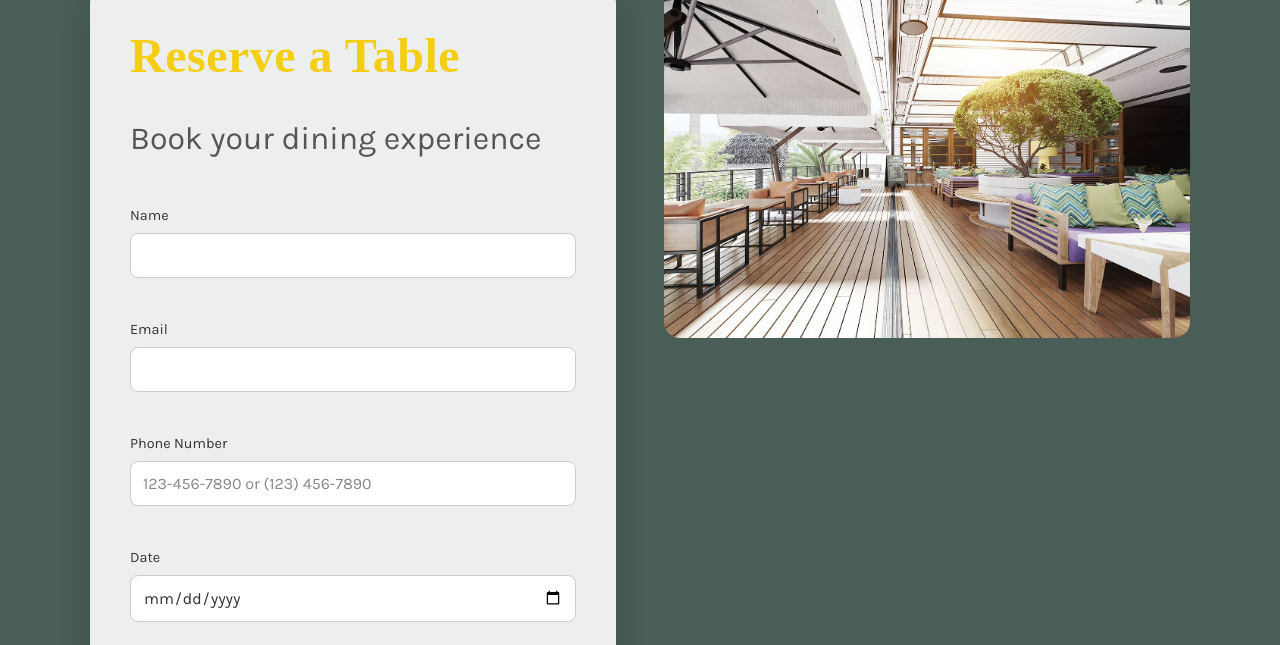
Test: BookingForm Component › submit button enables when form is valid
Type "Aimee" into the field labelled "Name" at [353, 255], box 130,233 -> 576,278
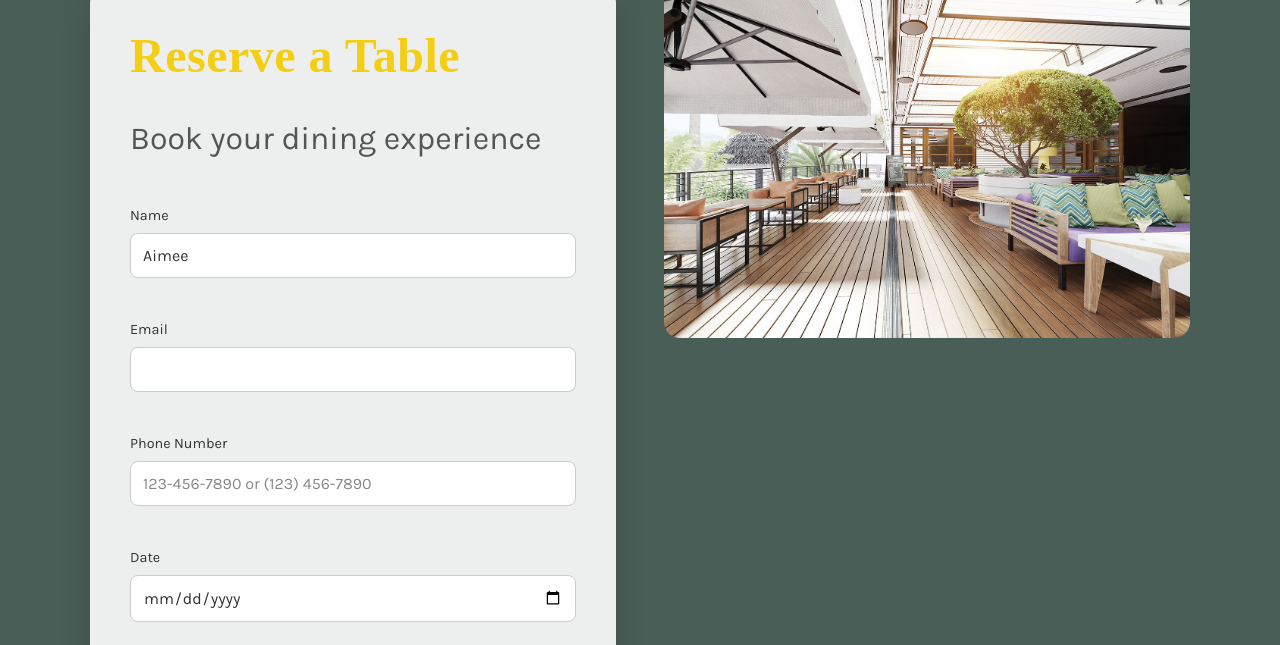
Type "a@b.com" into the field labelled "Email" at [353, 369], box 130,347 -> 576,392
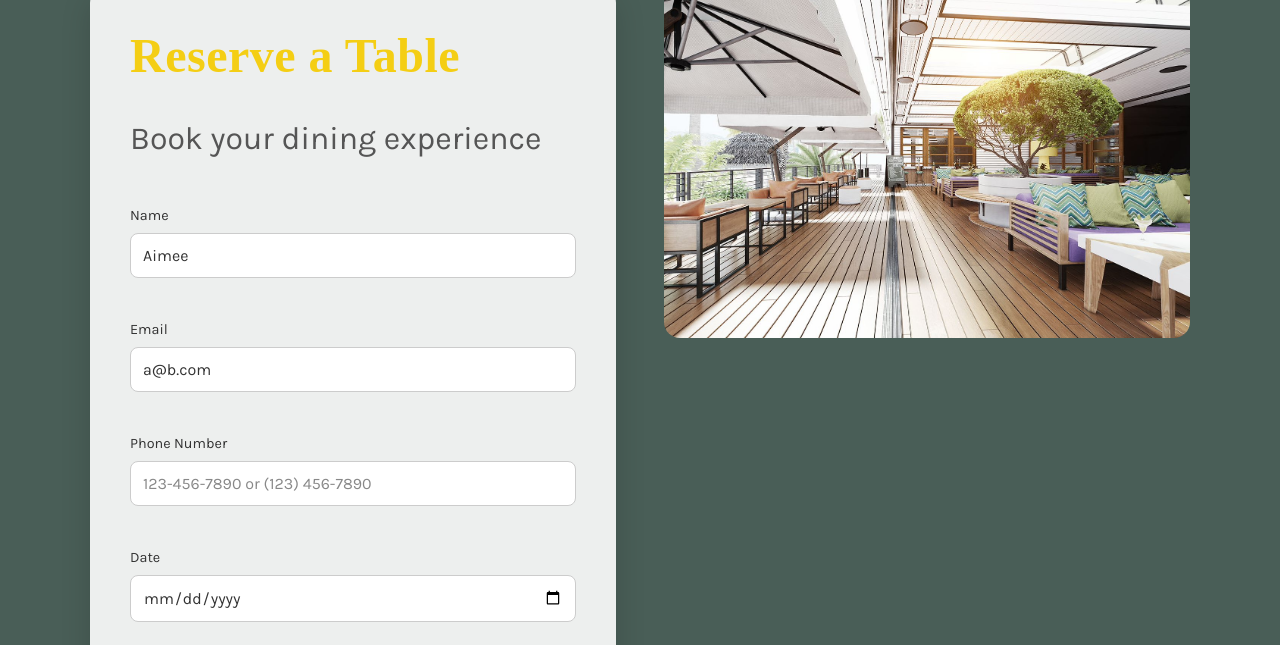
Type "2026-02-20" into the date field labelled "Date" at [353, 598], box 130,575 -> 576,622
(page scrolled)
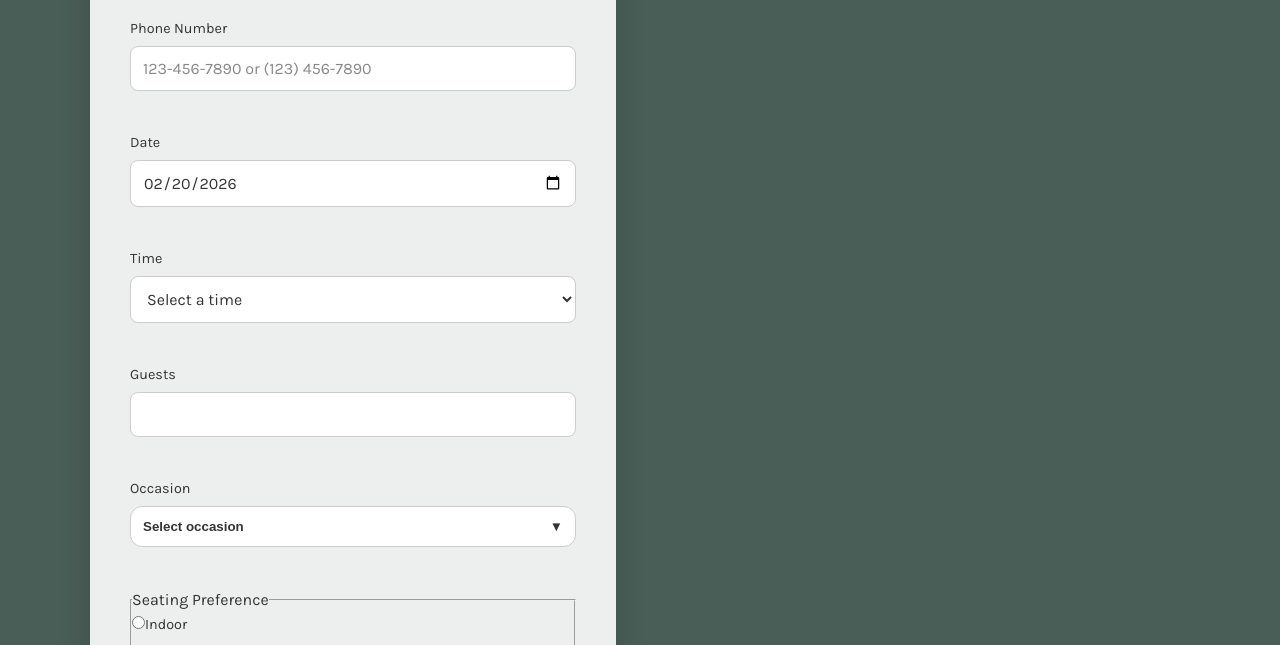
Select "17:00" in the dropdown labelled "Time" at [353, 300], box 130,276 -> 576,323
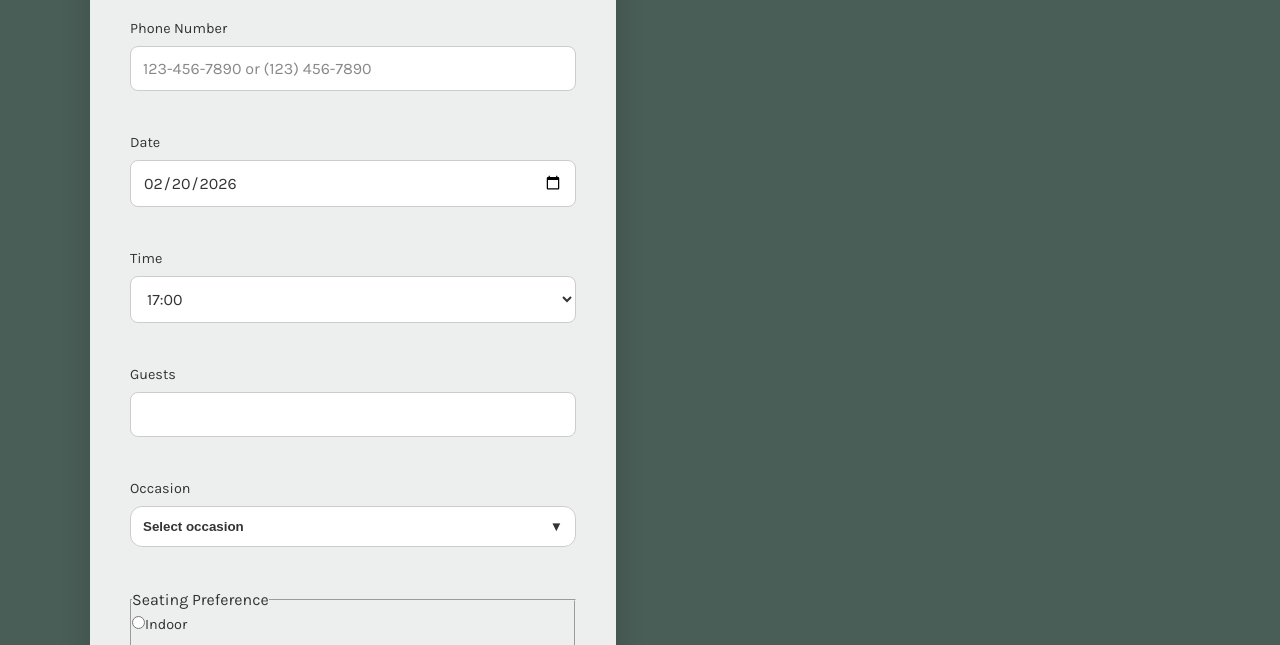
Type "2" into the number field labelled "Guests" at [353, 415], box 130,392 -> 576,437
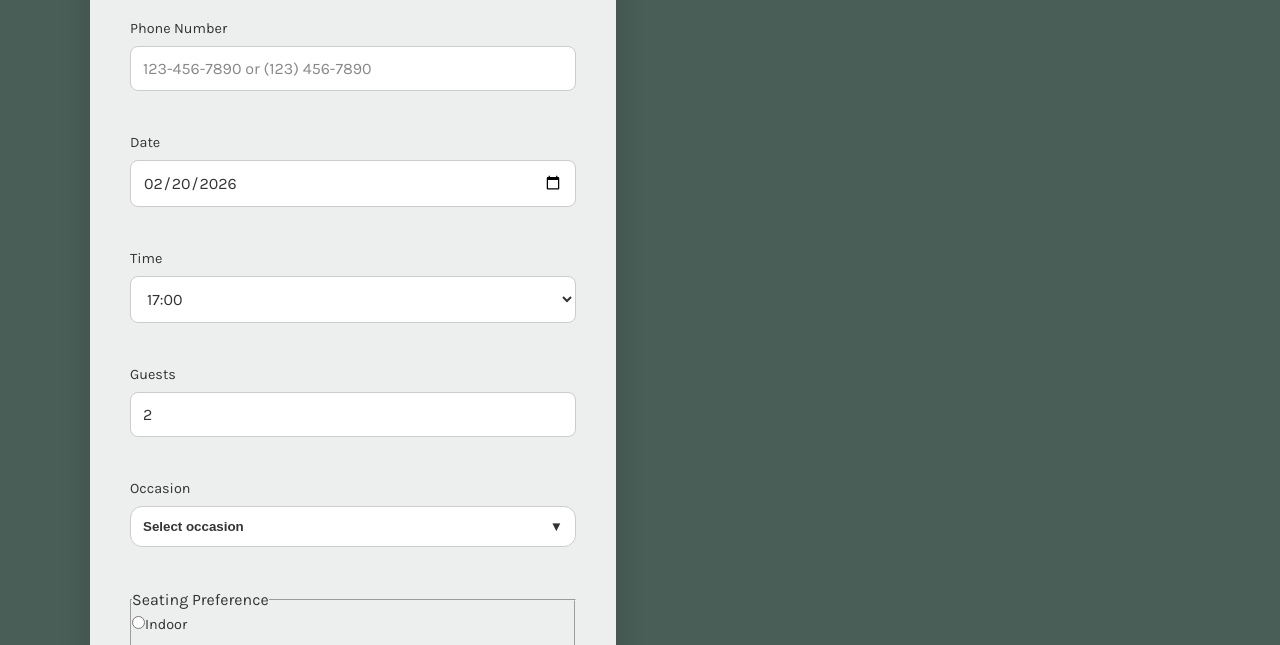
Click the radio button labelled "Indoor" at [138, 622], box 132,616 -> 145,629
(page scrolled)
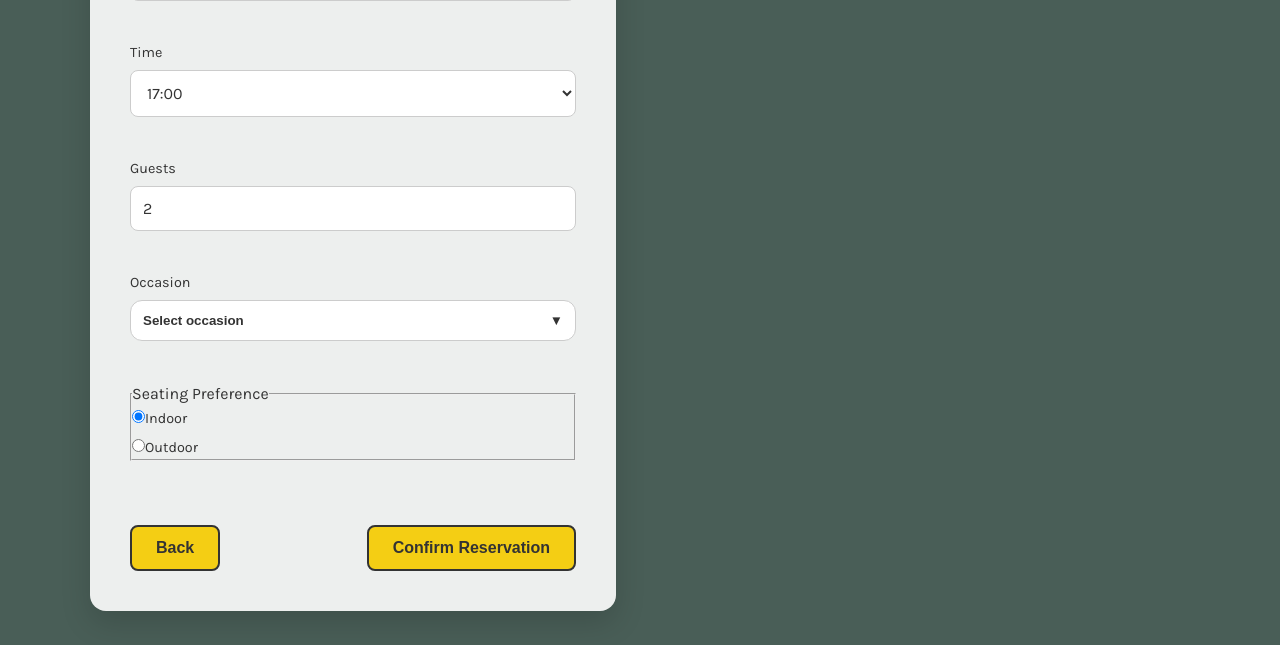
expect the button "Confirm Reservation" is enabled: met, box 367,525 -> 576,571
